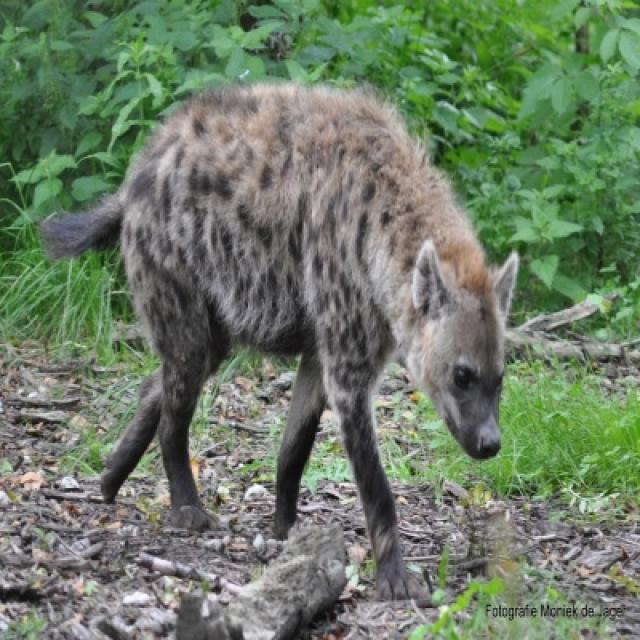hyena: (43, 83, 517, 598)
